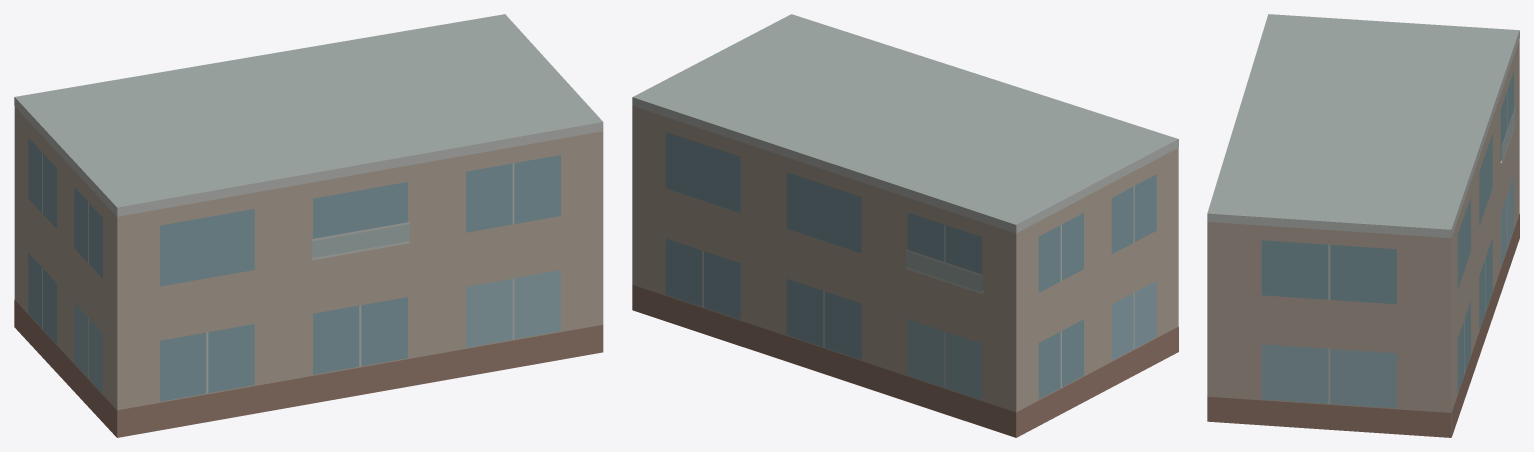
The model's file is survey-upis-32974415.glb.
3 views of the same model, side by side, from view 1: azimuth 30°, elevation 25°; view 2: azimuth 150°, elevation 25°; view 3: azimuth 270°, elevation 25° (orthographic). The views are drawn at different scales.
Visible parts, largest first — view 1: survey-upis-32974415.tmp; view 2: survey-upis-32974415.tmp; view 3: survey-upis-32974415.tmp.
Boxes of the visible parts, box(x1,y1,x2,y2) form: survey-upis-32974415.tmp: box(14, 14, 603, 437); survey-upis-32974415.tmp: box(632, 14, 1178, 437); survey-upis-32974415.tmp: box(1207, 14, 1519, 437).
Bounding box in the file's own units: 13.58 × 6.1 × 8.32.
